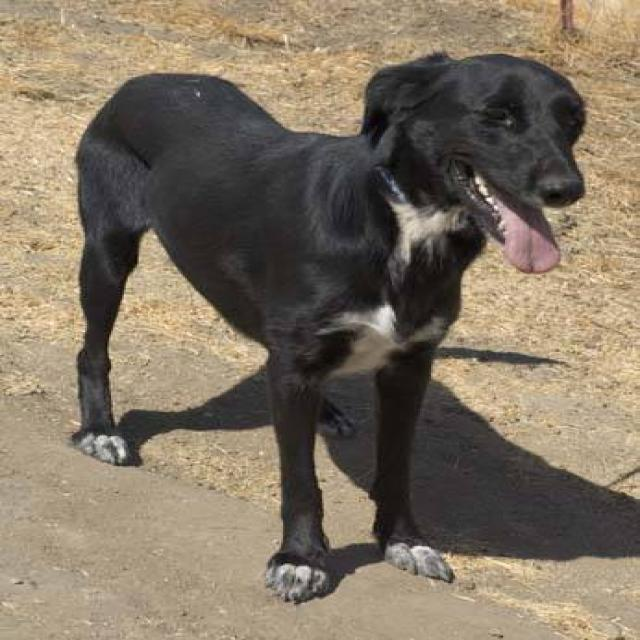dog: (69, 48, 586, 604)
